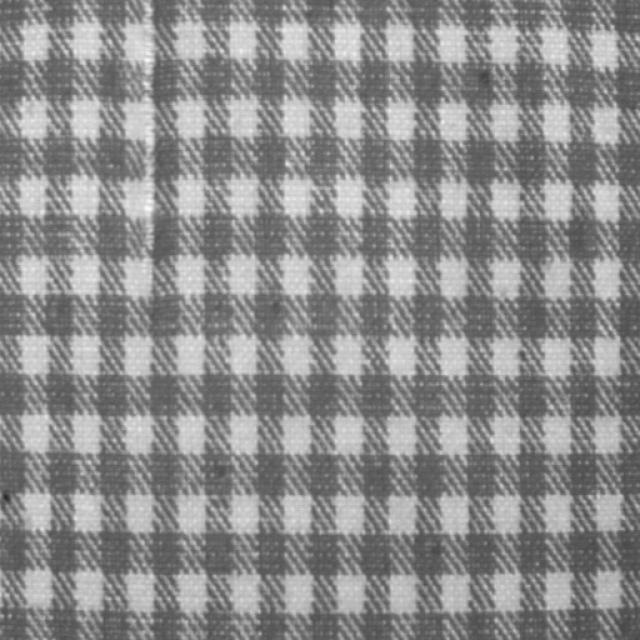Thread-Defect: (139, 0, 156, 252)
